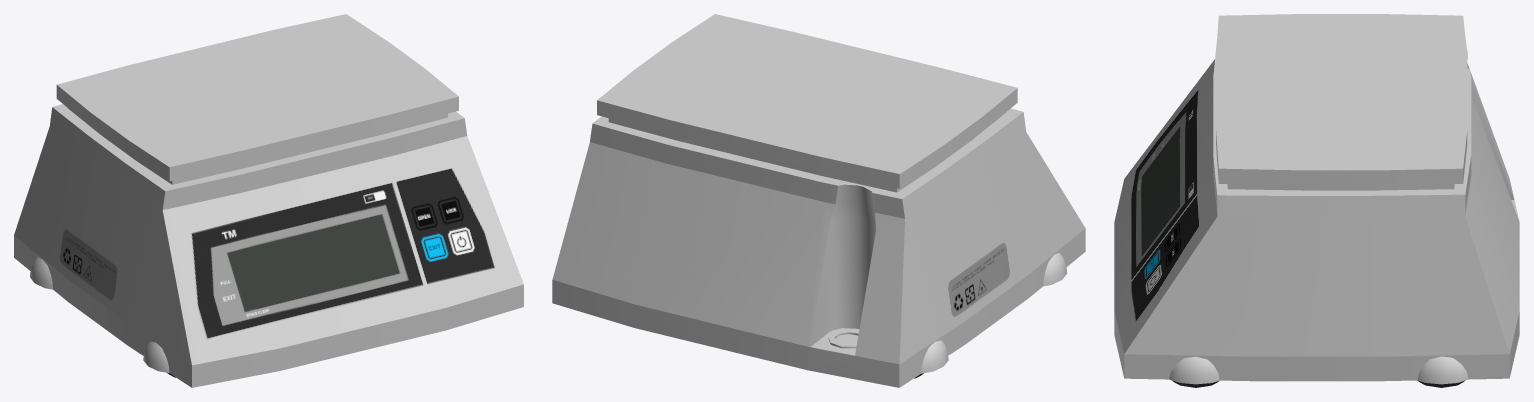
Rendered from LC_3017_Scale_A_LOD2.fbx.
3 renders of one model, left to right at view 1: azimuth 30°, elevation 25°; view 2: azimuth 150°, elevation 25°; view 3: azimuth 270°, elevation 25°, orthographic. The views are drawn at different scales.
Parts seen in each view (by area): view 1: LC_3017_Scale_A_LOD2; view 2: LC_3017_Scale_A_LOD2; view 3: LC_3017_Scale_A_LOD2.
Boxes of the visible parts, <box> form: LC_3017_Scale_A_LOD2: <box>14,14,523,387</box>; LC_3017_Scale_A_LOD2: <box>552,14,1085,387</box>; LC_3017_Scale_A_LOD2: <box>1114,14,1519,387</box>.
Bounding box in the file's own units: 29.82 × 15.91 × 27.35.
Materials: 1 (1 with a texture image).
